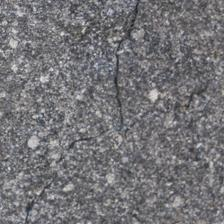Crack: (56, 1, 93, 133)
